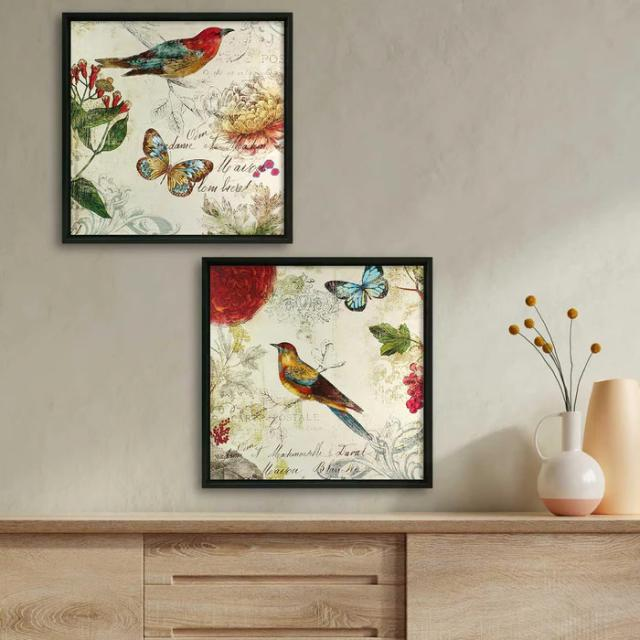painting: (62, 12, 293, 244), (203, 257, 434, 488)
